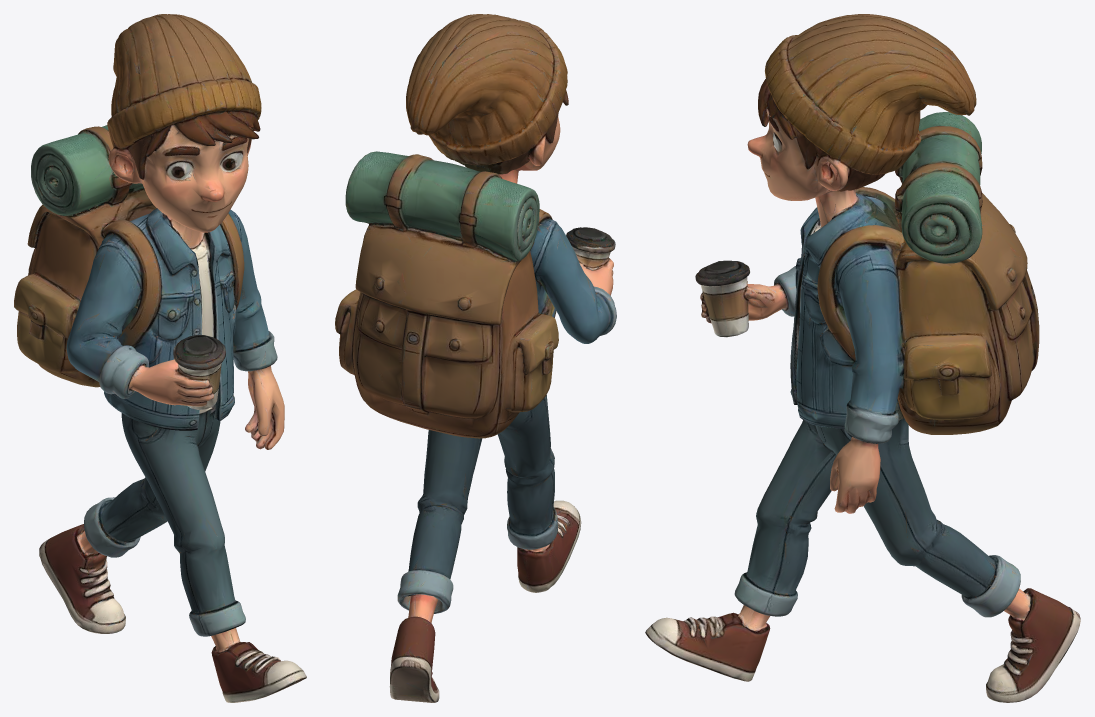
File: getkong-ped9.glb
3 renders of one model, left to right at view 1: azimuth 30°, elevation 25°; view 2: azimuth 150°, elevation 25°; view 3: azimuth 270°, elevation 25°, orthographic. The views are drawn at different scales.
Parts seen in each view (by area): view 1: Mesh_0; view 2: Mesh_0; view 3: Mesh_0.
Part boxes in pixels (<box>): Mesh_0: <box>14,14,306,702</box>; Mesh_0: <box>335,14,616,702</box>; Mesh_0: <box>645,14,1080,702</box>.
Size of the model in its own units: 0.6558 by 1.9 by 1.11.
1 material, 1 textured.
